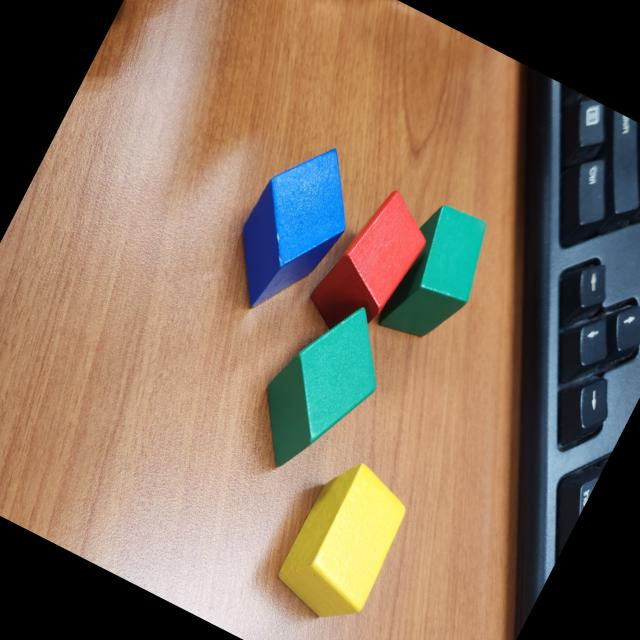blue: (210, 126, 377, 332)
green: (234, 283, 408, 493), (372, 196, 504, 355)
red: (300, 177, 442, 353)
yellow: (268, 450, 424, 634)
